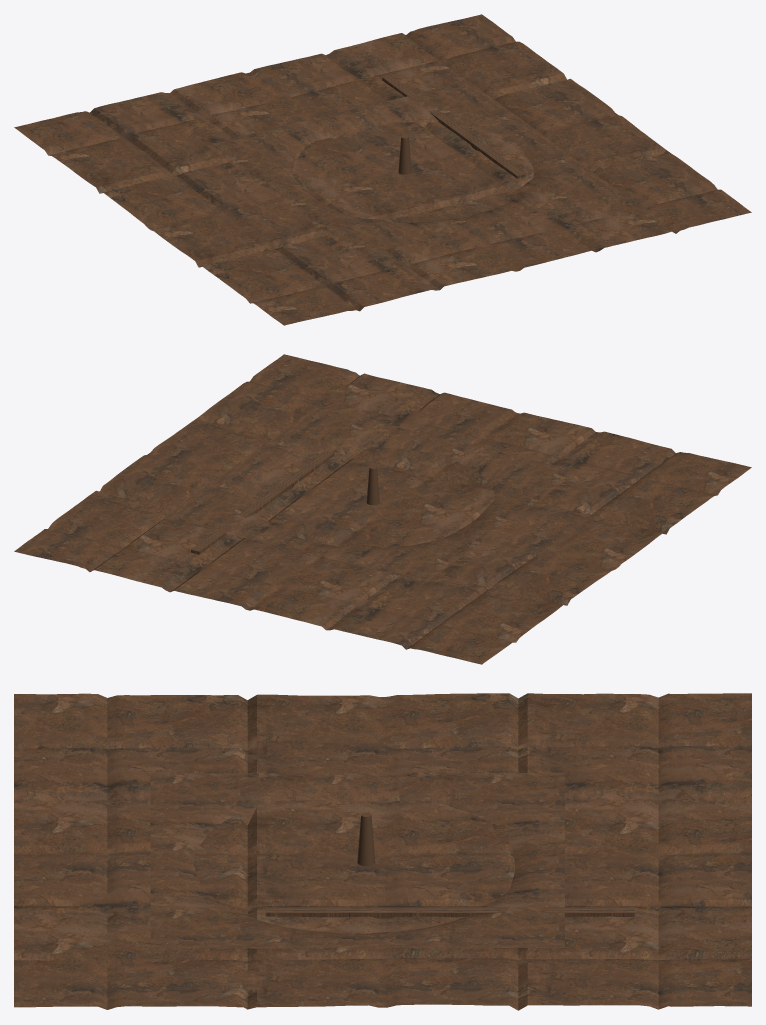
Rendered from karst.glb.
3 views of the same model, one above another, from view 1: azimuth 30°, elevation 25°; view 2: azimuth 150°, elevation 25°; view 3: azimuth 270°, elevation 25° (orthographic). The views are drawn at different scales.
Parts seen in each view (by area): view 1: Karst_Pavement, Karst_Doline, Karst_Gryke; view 2: Karst_Pavement, Karst_Doline, Karst_Gryke; view 3: Karst_Pavement, Karst_Doline, Karst_Gryke, Karst_Stalactite.
Boxes of the visible parts, bbox=[...] form: Karst_Pavement: bbox=[14, 14, 751, 325]; Karst_Doline: bbox=[206, 81, 620, 255]; Karst_Gryke: bbox=[382, 75, 525, 178]; Karst_Pavement: bbox=[14, 354, 751, 664]; Karst_Doline: bbox=[164, 407, 577, 581]; Karst_Gryke: bbox=[191, 451, 334, 554]; Karst_Pavement: bbox=[14, 693, 751, 1010]; Karst_Doline: bbox=[150, 772, 564, 948]; Karst_Gryke: bbox=[265, 907, 634, 918]; Karst_Stalactite: bbox=[357, 812, 375, 866].
Bounding box in the file's own units: 4.4 × 1.17 × 4.4.
1 material, 1 textured.
